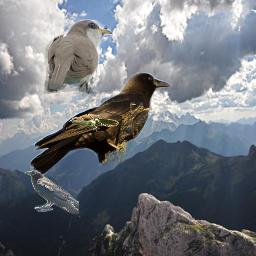Crow: (30, 69, 174, 179), (24, 170, 79, 214)
Cuckoo: (44, 19, 112, 94), (69, 114, 119, 131)
